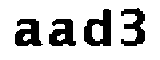3: (118, 7, 148, 48)
a: (46, 16, 81, 51), (13, 16, 43, 51)
d: (82, 8, 114, 49)
